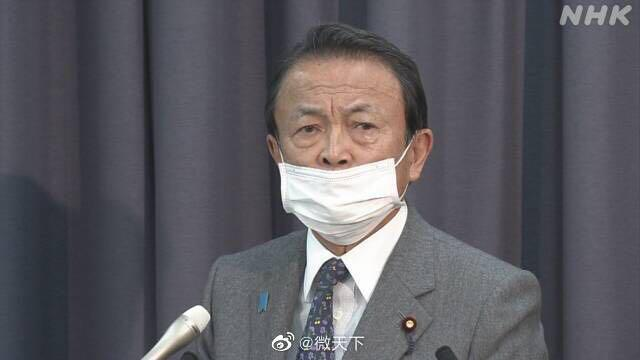WRONG: (279, 93, 406, 241)
